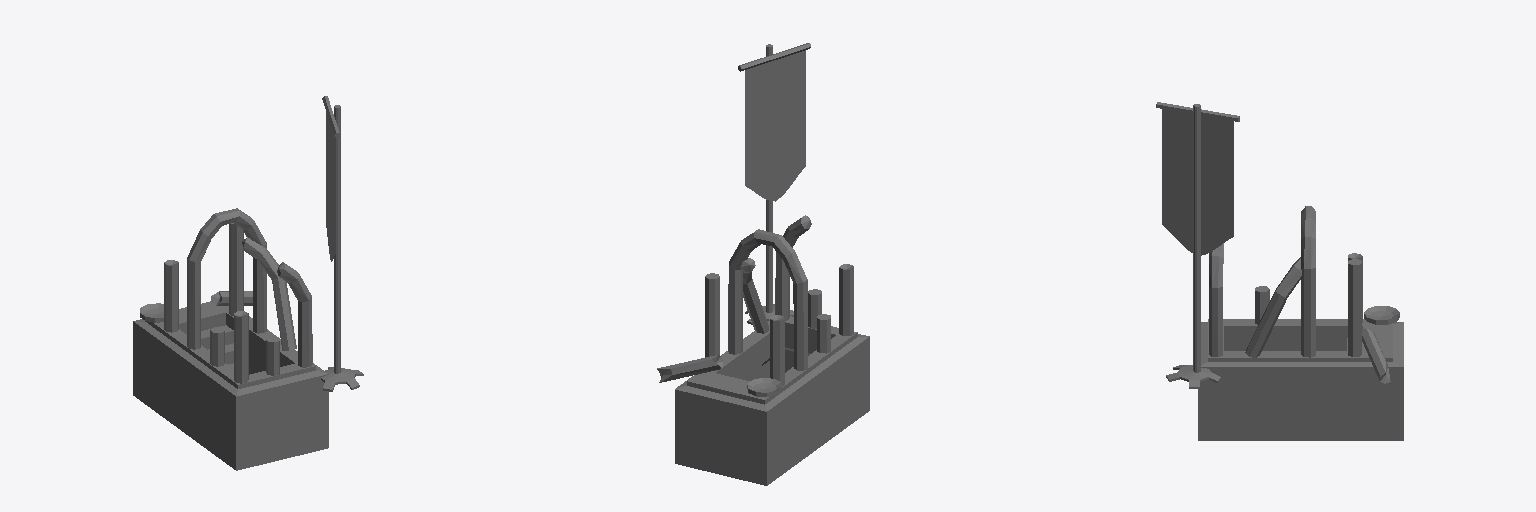
Rendered from old.obj.
3 renders of one model, left to right at view 1: azimuth 30°, elevation 25°; view 2: azimuth 150°, elevation 25°; view 3: azimuth 270°, elevation 25°, orthographic.
Parts seen in each view (by area): view 1: CryptComplete1; view 2: CryptComplete1; view 3: CryptComplete1.
Part boxes in pixels (x1,y1,x2,y2): CryptComplete1: (133,96,363,470); CryptComplete1: (657,43,869,485); CryptComplete1: (1156,102,1403,440).
Size of the model in its own units: 3.14 by 8.13 by 5.36.